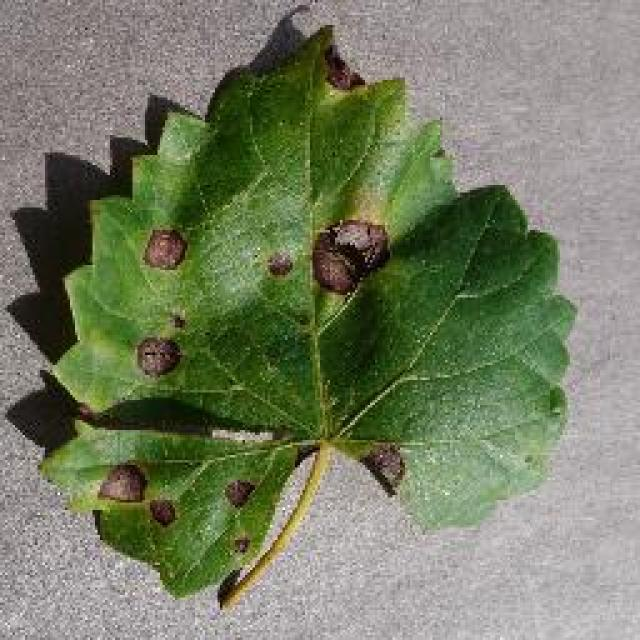Grape___Black_rot: (30, 22, 586, 612)
